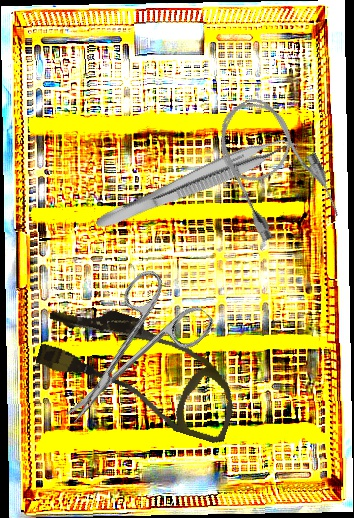Cannula: (28, 293, 251, 446), (202, 83, 346, 252)
Iris Scissors: (34, 261, 218, 448)
Tissue Forceps: (93, 125, 301, 243)
